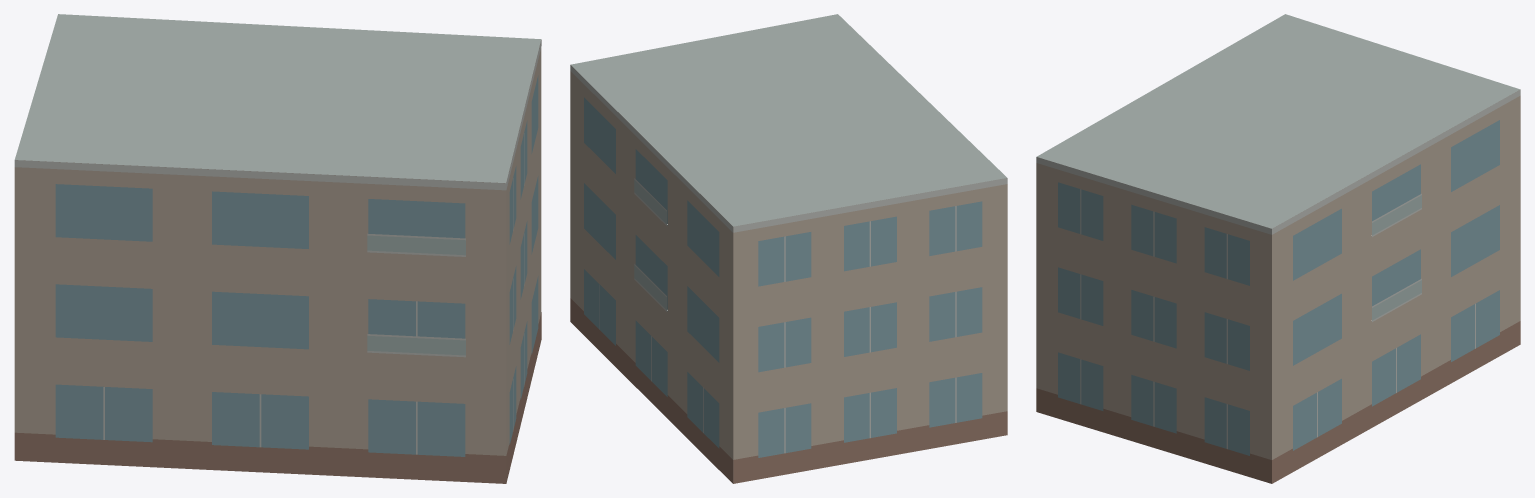
The model's file is survey-upis-32621426.glb.
3 renders of one model, left to right at view 1: azimuth 30°, elevation 25°; view 2: azimuth 150°, elevation 25°; view 3: azimuth 270°, elevation 25°, orthographic. The views are drawn at different scales.
Visible parts, largest first — view 1: survey-upis-32621426.tmp; view 2: survey-upis-32621426.tmp; view 3: survey-upis-32621426.tmp.
Boxes of the visible parts, left/top/right/bottom form: survey-upis-32621426.tmp: left=14, top=14, right=541, bottom=483; survey-upis-32621426.tmp: left=570, top=14, right=1007, bottom=483; survey-upis-32621426.tmp: left=1036, top=14, right=1520, bottom=483.
Size of the model in its own units: 18.43 by 10.2 by 17.55.
